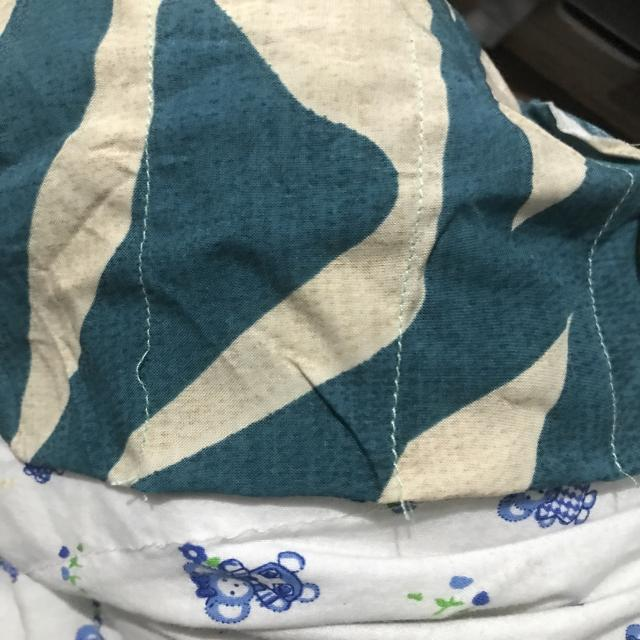skip: (121, 332, 173, 404), (134, 252, 154, 302)
